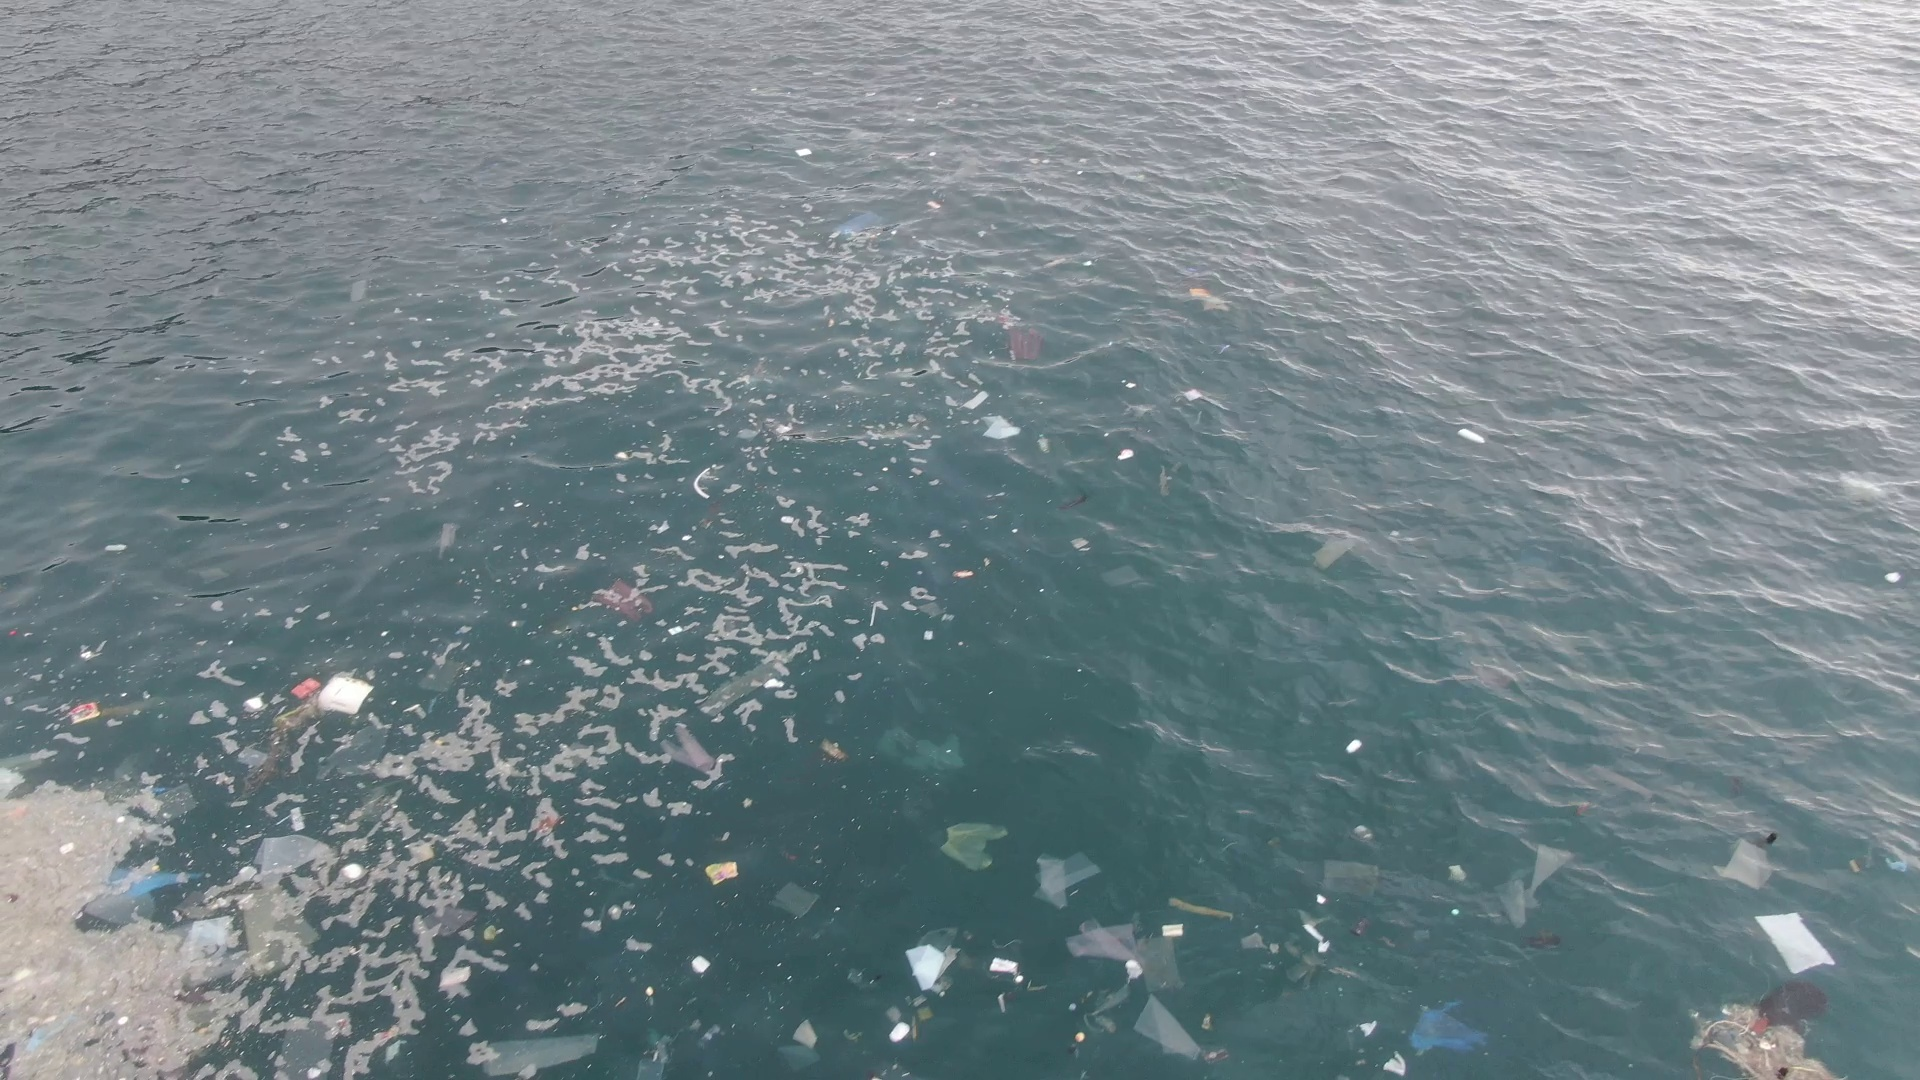garbage: (1065, 922, 1229, 1067), (1689, 981, 1845, 1079), (251, 676, 371, 777), (82, 855, 211, 926), (698, 647, 796, 713), (1498, 845, 1573, 927), (1760, 910, 1836, 977), (484, 1033, 597, 1073), (1411, 1000, 1487, 1054), (1035, 849, 1100, 913), (909, 924, 963, 1000), (1720, 829, 1776, 891), (942, 822, 1009, 872), (593, 576, 658, 622), (1321, 855, 1377, 905), (663, 725, 713, 775), (1168, 891, 1238, 926), (1005, 316, 1046, 363), (779, 1025, 820, 1071), (773, 880, 818, 919), (1313, 533, 1354, 570), (427, 903, 477, 932), (1188, 284, 1232, 315), (636, 1044, 669, 1080), (840, 211, 882, 237), (982, 413, 1021, 442), (530, 802, 556, 843), (705, 860, 738, 886), (67, 705, 105, 727), (955, 566, 976, 583), (796, 146, 814, 158)
